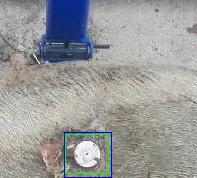text: (65, 134, 108, 173)
